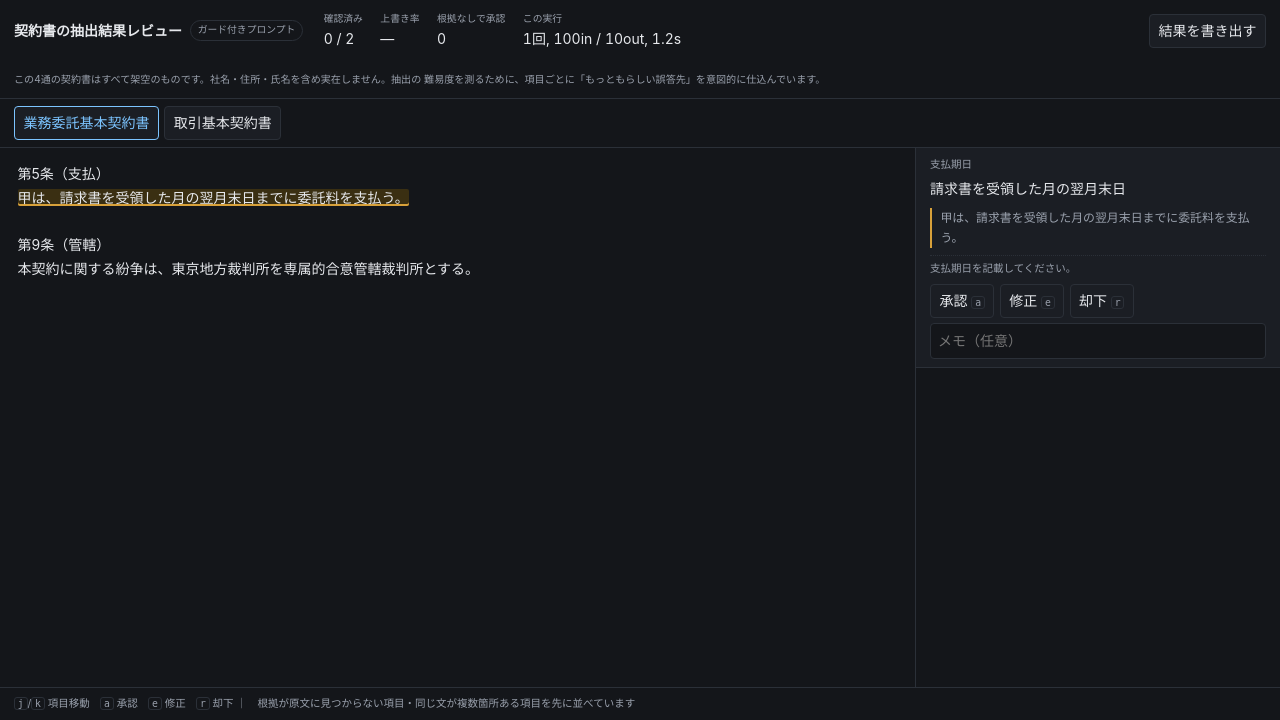
App › switches documents without carrying the previous selection
The image size is (1280, 720).
Click the button "取引基本契約書".
click(223, 123)  # box [164,106,281,140]
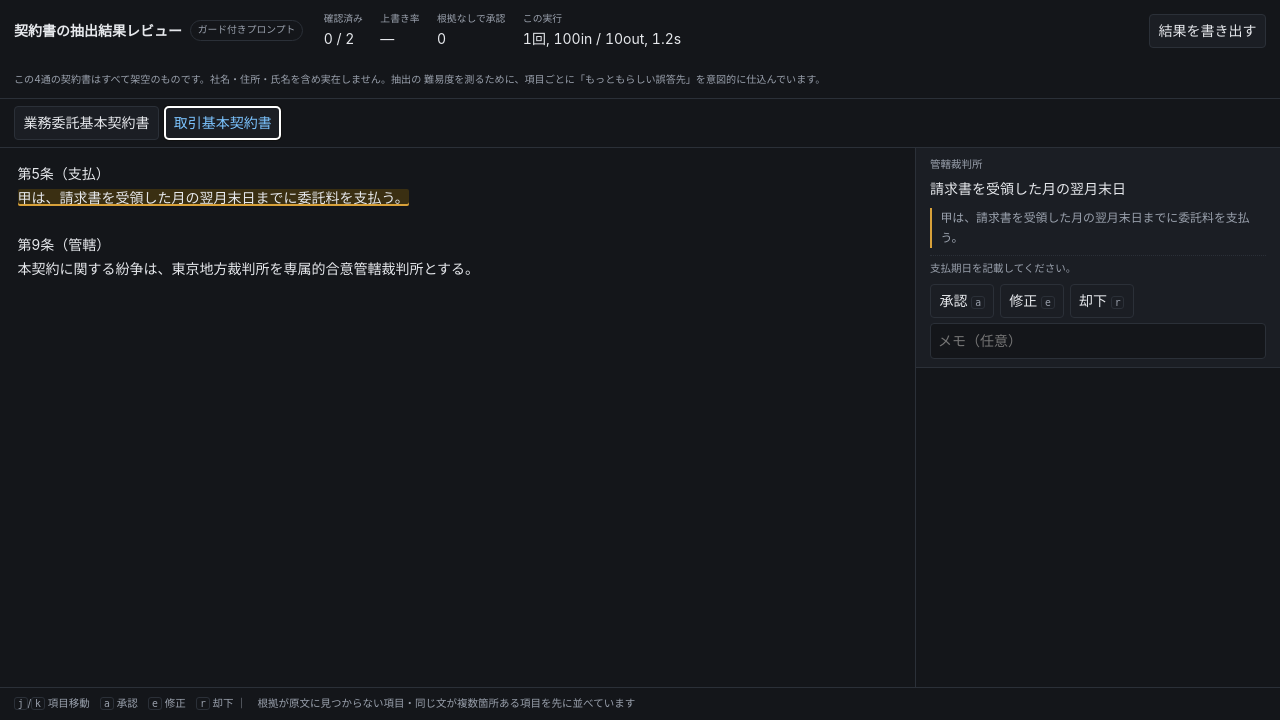
Expected: the text "管轄裁判所" is shown once, [930,156,982,174]
Expected: the text "管轄裁判所" is shown, [930,156,982,174]
